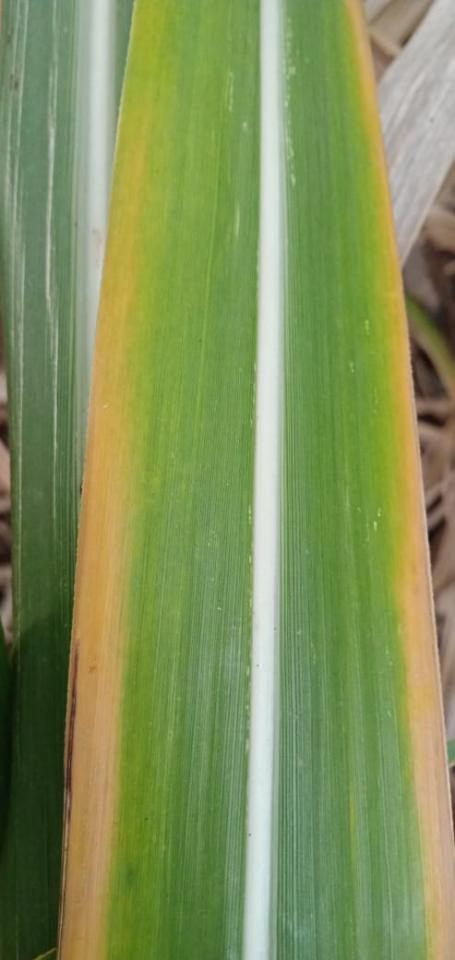Rust: (342, 0, 454, 959), (58, 312, 125, 959)
